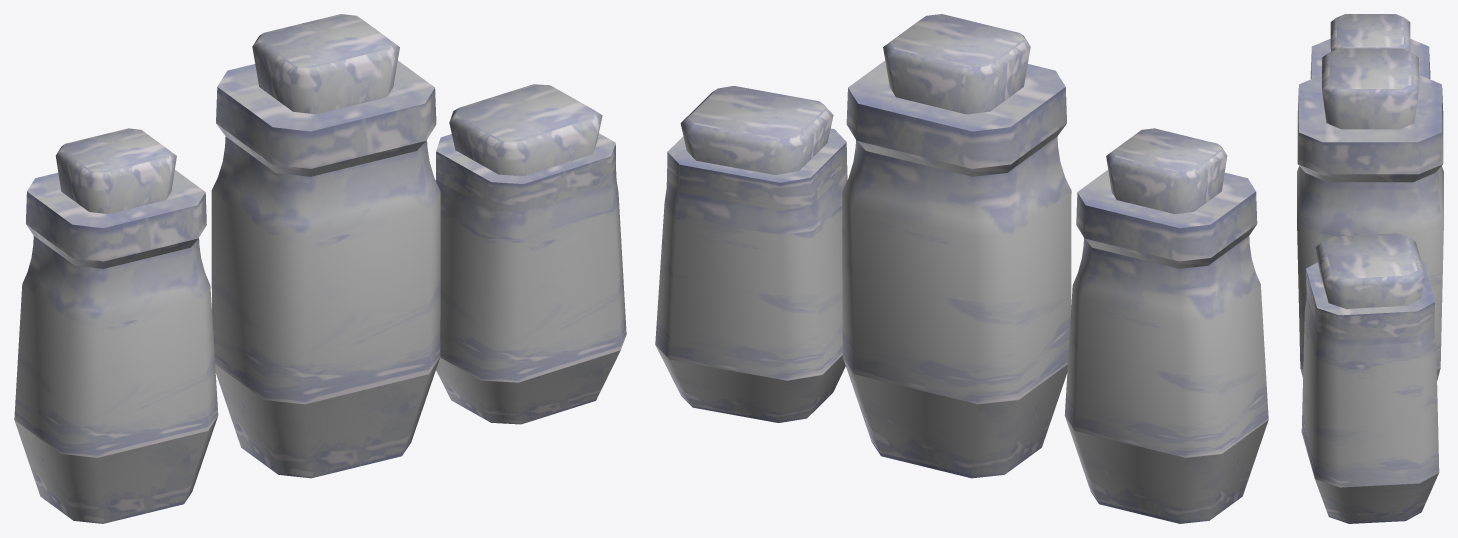
Rendered from SmallBottles_1.fbx.
3 renders of one model, left to right at view 1: azimuth 30°, elevation 25°; view 2: azimuth 150°, elevation 25°; view 3: azimuth 270°, elevation 25°, orthographic. The views are drawn at different scales.
Parts seen in each view (by area): view 1: SmallBottles_1; view 2: SmallBottles_1; view 3: SmallBottles_1.
Boxes of the visible parts, bbox=[...] form: SmallBottles_1: bbox=[14, 14, 626, 523]; SmallBottles_1: bbox=[655, 14, 1268, 523]; SmallBottles_1: bbox=[1297, 14, 1443, 523].
Size of the model in its own units: 21.51 by 14.54 by 5.58.
